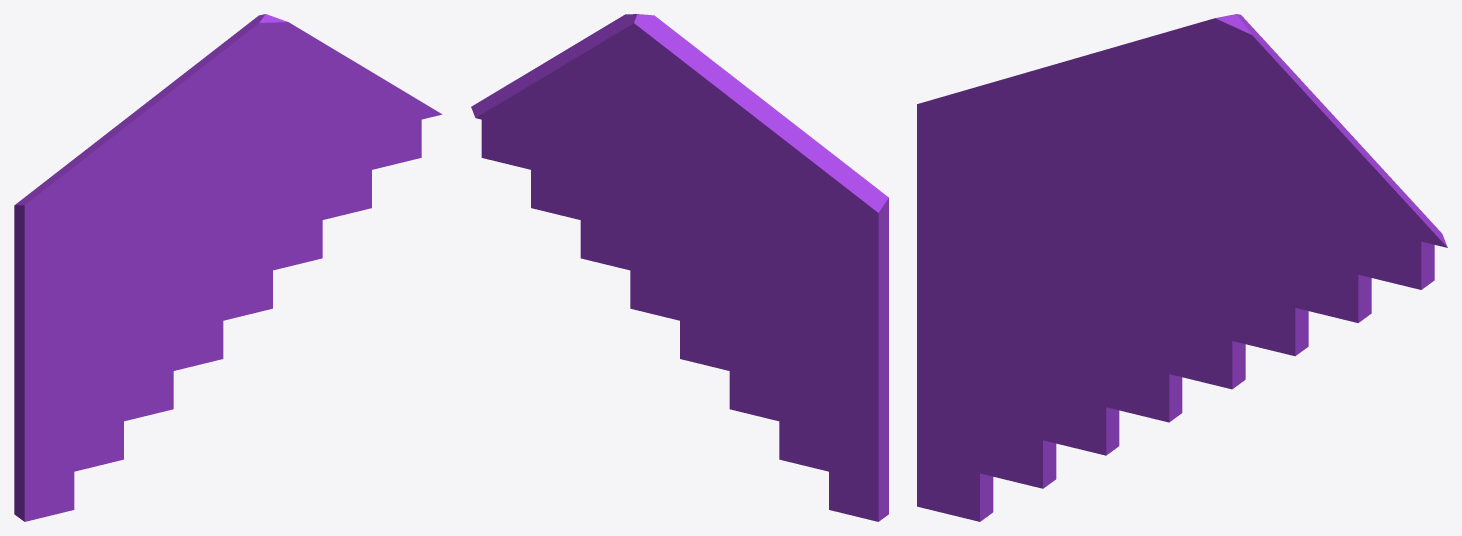
File: Glass_103_1_chunks.fbx
3 views of the same model, side by side, from view 1: azimuth 30°, elevation 25°; view 2: azimuth 150°, elevation 25°; view 3: azimuth 330°, elevation 25° (orthographic). The views are drawn at different scales.
Parts seen in each view (by area): view 1: Glass_103_1_0, Glass_103_1_2, Glass_103_1_3; view 2: Glass_103_1_0, Glass_103_1_2, Glass_103_1_3, Glass_103_1_1; view 3: Glass_103_1_0, Glass_103_1_2, Glass_103_1_3.
Part boxes in pixels (left/top/right/bottom): Glass_103_1_0: left=14, top=221, right=253, bottom=521; Glass_103_1_2: left=201, top=32, right=442, bottom=313; Glass_103_1_3: left=14, top=14, right=304, bottom=253; Glass_103_1_0: left=654, top=236, right=888, bottom=521; Glass_103_1_2: left=471, top=25, right=697, bottom=314; Glass_103_1_3: left=606, top=14, right=888, bottom=252; Glass_103_1_1: left=694, top=200, right=794, bottom=237; Glass_103_1_0: left=917, top=166, right=1207, bottom=521; Glass_103_1_2: left=1141, top=53, right=1447, bottom=389; Glass_103_1_3: left=917, top=14, right=1275, bottom=234.
Size of the model in its own units: 630 by 639 by 27.2.
